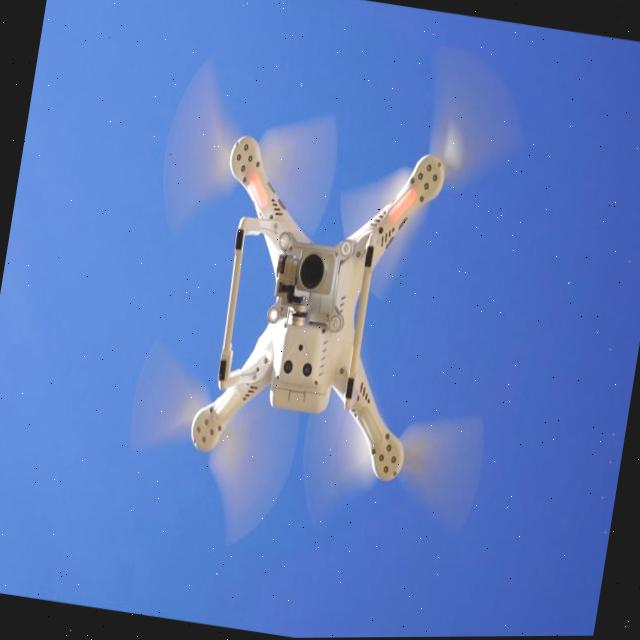drone: (85, 50, 564, 554)
